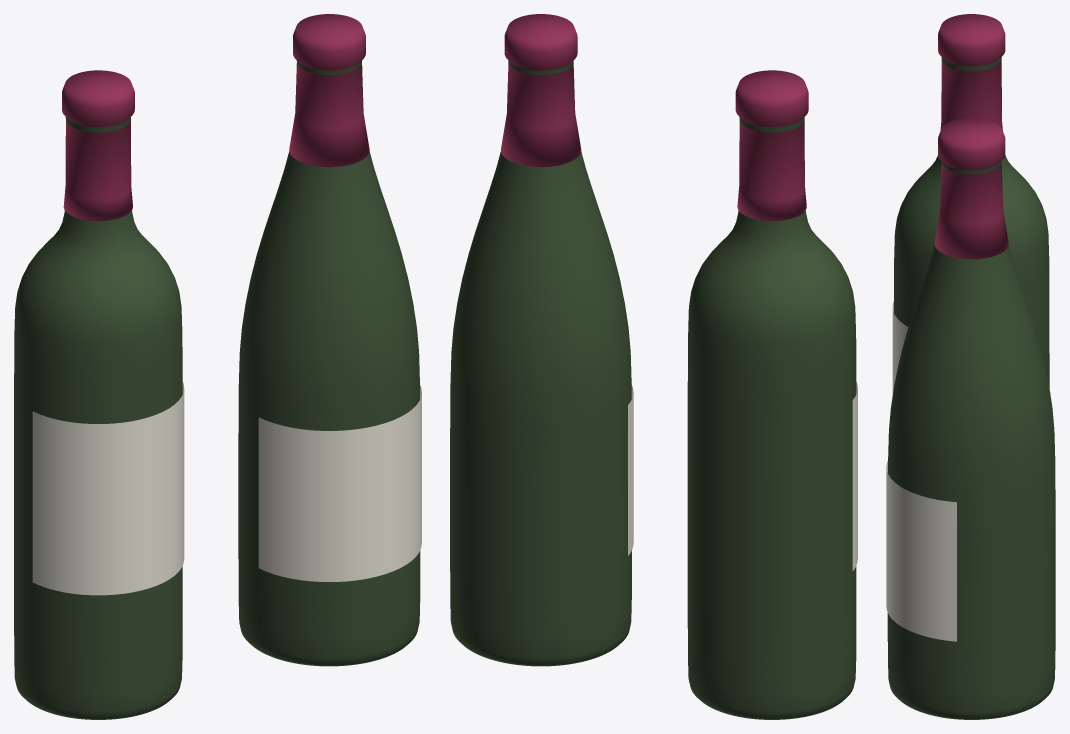
The model's file is bottles.glb.
3 renders of one model, left to right at view 1: azimuth 30°, elevation 25°; view 2: azimuth 150°, elevation 25°; view 3: azimuth 270°, elevation 25°, orthographic. The views are drawn at different scales.
Parts seen in each view (by area): view 1: Borgona_Glass, Bordelesa_Glass, Bordelesa_Label, Borgona_Label, Borgona_Foil, Bordelesa_Foil; view 2: Borgona_Glass, Bordelesa_Glass, Borgona_Foil, Bordelesa_Foil, Bordelesa_Label, Borgona_Label; view 3: Borgona_Glass, Bordelesa_Glass, Borgona_Label, Borgona_Foil, Bordelesa_Foil, Bordelesa_Label.
Boxes of the visible parts, bbox=[...] form: Borgona_Glass: bbox=[238, 60, 420, 666]; Bordelesa_Glass: bbox=[14, 117, 182, 719]; Bordelesa_Label: bbox=[32, 382, 184, 595]; Borgona_Label: bbox=[258, 385, 421, 581]; Borgona_Foil: bbox=[289, 14, 369, 167]; Bordelesa_Foil: bbox=[62, 70, 134, 221]; Borgona_Glass: bbox=[450, 60, 631, 666]; Bordelesa_Glass: bbox=[687, 117, 856, 719]; Borgona_Foil: bbox=[501, 14, 581, 167]; Bordelesa_Foil: bbox=[735, 70, 808, 221]; Bordelesa_Label: bbox=[852, 382, 857, 570]; Borgona_Label: bbox=[628, 385, 633, 555]; Borgona_Glass: bbox=[887, 161, 1055, 719]; Bordelesa_Glass: bbox=[894, 57, 1049, 387]; Borgona_Label: bbox=[886, 460, 956, 641]; Borgona_Foil: bbox=[934, 118, 1008, 259]; Bordelesa_Foil: bbox=[938, 14, 1005, 130]; Bordelesa_Label: bbox=[892, 301, 908, 394].
Size of the model in its own units: 0.199 by 0.2996 by 0.0825.
